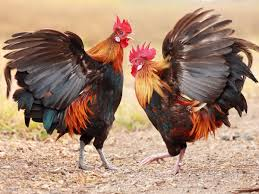Gà/Chicken: (1, 7, 133, 182), (128, 42, 253, 178)
